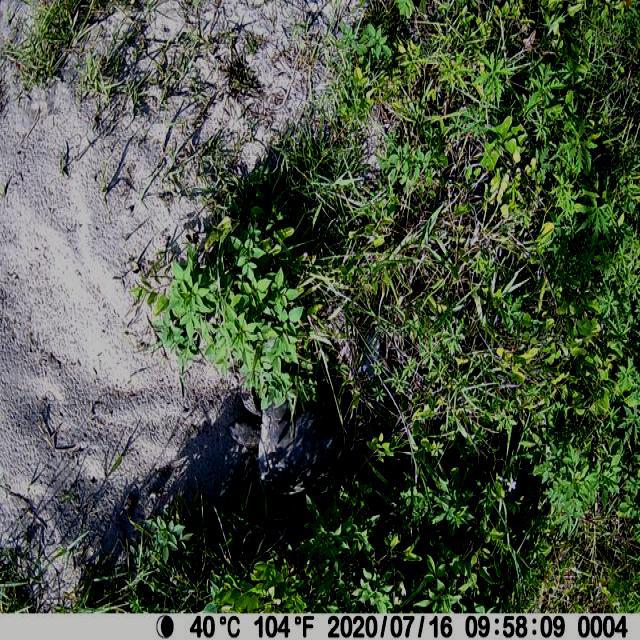tortoise: (225, 368, 344, 500)
